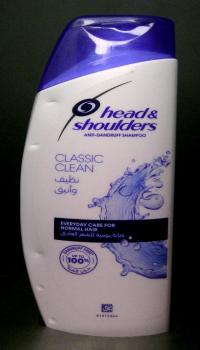dent_unacceptable: (38, 90, 69, 116), (28, 244, 52, 268), (22, 138, 46, 161), (34, 277, 55, 295), (46, 305, 64, 325)
